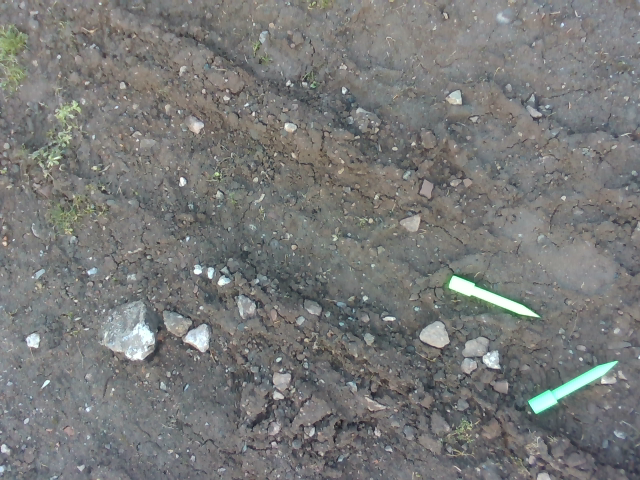Probe: (526, 355, 625, 420), (444, 272, 547, 324)
